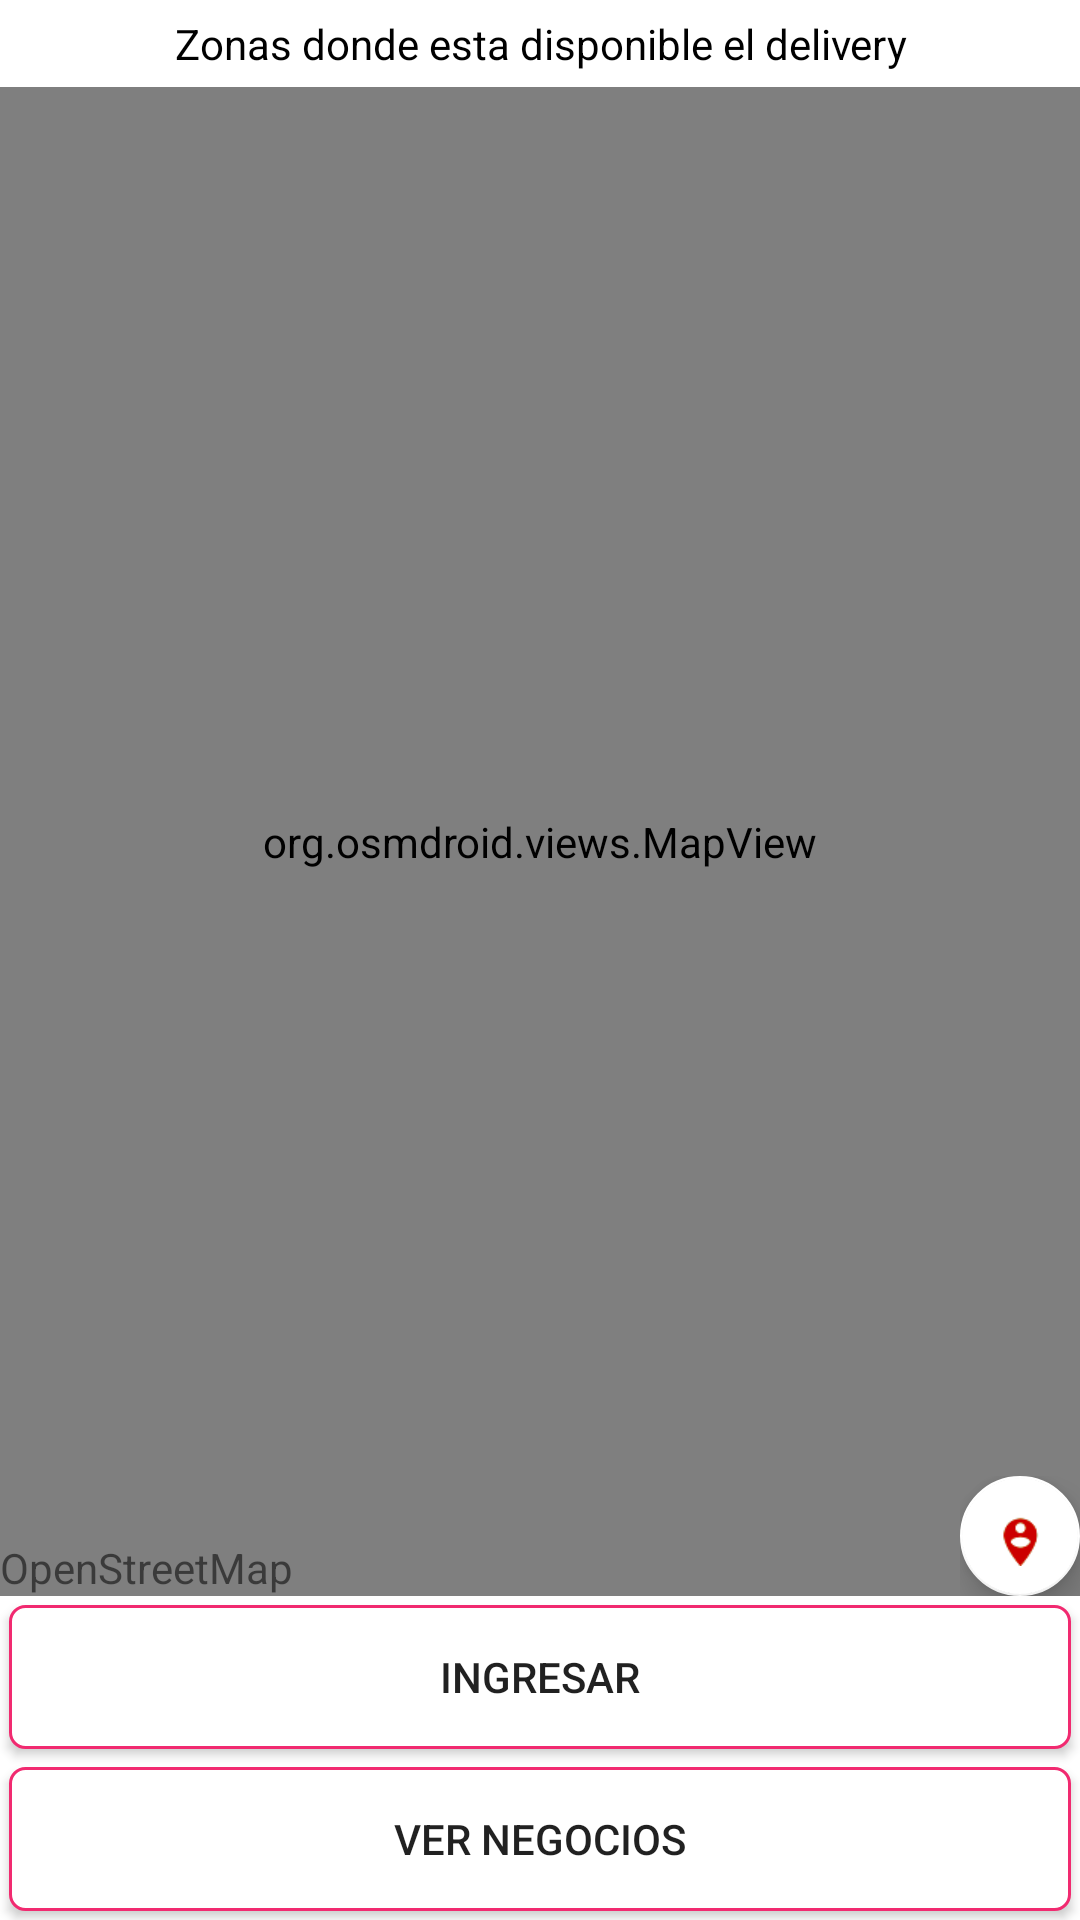

Icons on this 1080×1920 Android screen, each with the point to tap as (x,y):
mapas location round rojo: (1020,1536)
